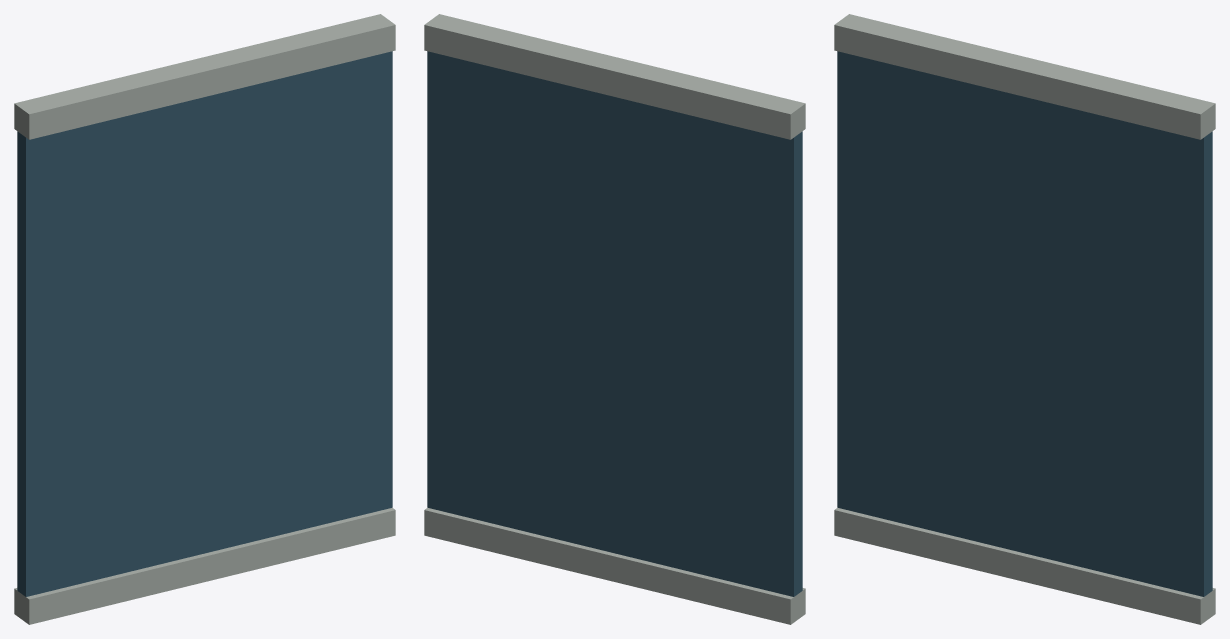
The model's file is SM_Prop_CubicalWall_01_Half.glb.
3 views of the same model, side by side, from view 1: azimuth 30°, elevation 25°; view 2: azimuth 150°, elevation 25°; view 3: azimuth 330°, elevation 25° (orthographic).
Visible parts, largest first — view 1: SM_Prop_CubicalWall_01_Half; view 2: SM_Prop_CubicalWall_01_Half; view 3: SM_Prop_CubicalWall_01_Half.
Boxes of the visible parts, bbox=[...] form: SM_Prop_CubicalWall_01_Half: bbox=[14, 14, 395, 624]; SM_Prop_CubicalWall_01_Half: bbox=[424, 14, 805, 624]; SM_Prop_CubicalWall_01_Half: bbox=[834, 14, 1215, 624].
Bounding box in the file's own units: 1 × 1.33 × 0.0706.
Materials: 1 (1 with a texture image).
